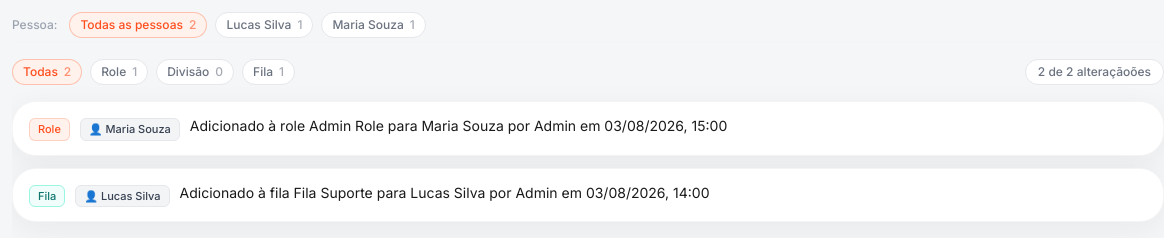
UserChangesList — múltiplos usuários e target_user › exibe chips de pessoas e badge com target_user quando há múltiplos usuários
Click the button "Lucas Silva 1" at (264, 25), box [215,12,313,38]
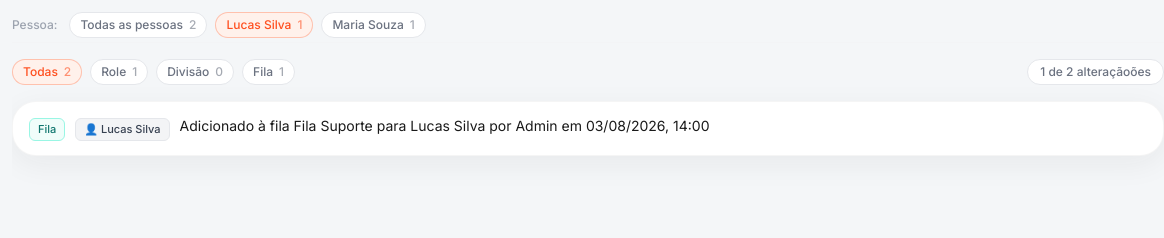
expect the text "Fila Suporte" is shown: met, box [180,117,710,134]
expect the text "Admin Role" is gone: met
